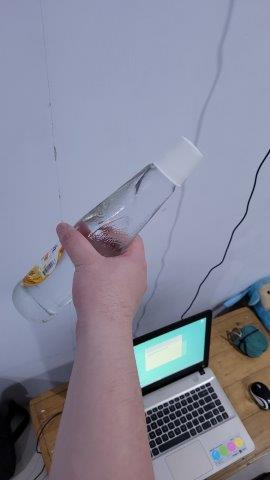botolkaca: (10, 131, 204, 323)
